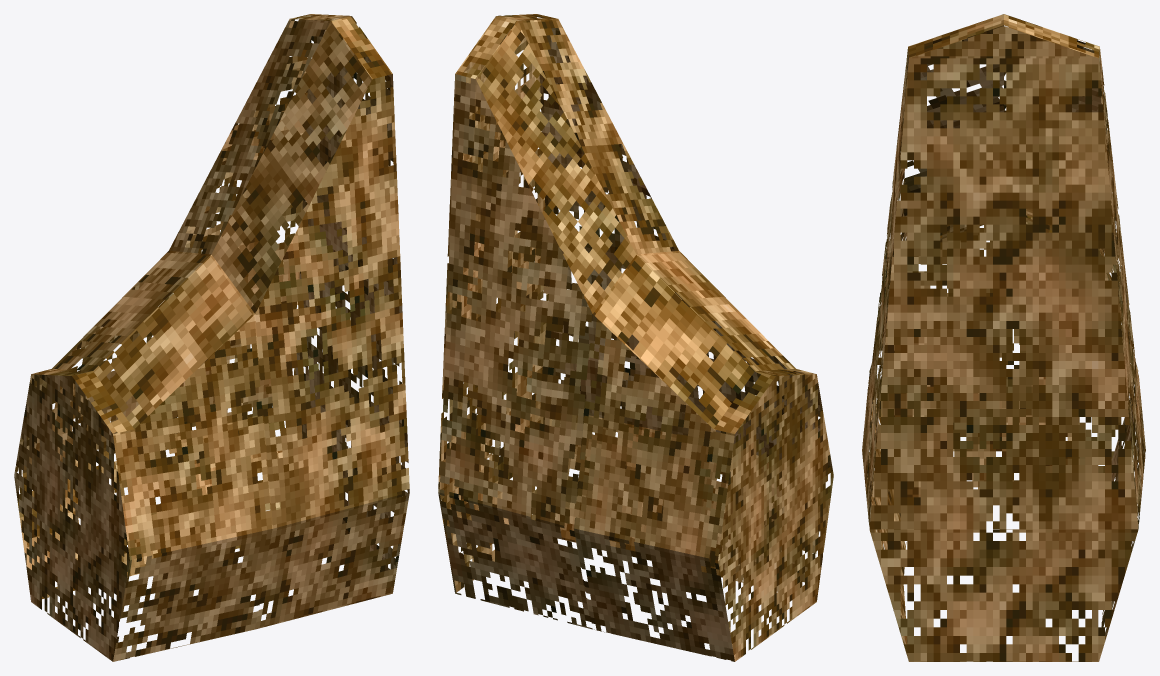
The model's file is bush_connector_ornamental_half_autumn.glb.
3 renders of one model, left to right at view 1: azimuth 30°, elevation 25°; view 2: azimuth 150°, elevation 25°; view 3: azimuth 270°, elevation 25°, orthographic. The views are drawn at different scales.
Parts seen in each view (by area): view 1: bush_connector_ornamental_half_autumn; view 2: bush_connector_ornamental_half_autumn; view 3: bush_connector_ornamental_half_autumn.
Part boxes in pixels (left/top/right/bottom): bush_connector_ornamental_half_autumn: left=14, top=14, right=409, bottom=661; bush_connector_ornamental_half_autumn: left=438, top=14, right=833, bottom=661; bush_connector_ornamental_half_autumn: left=862, top=14, right=1145, bottom=661.
Size of the model in its own units: 1 by 1.88 by 0.7592.
Materials: 1 (1 with a texture image).
